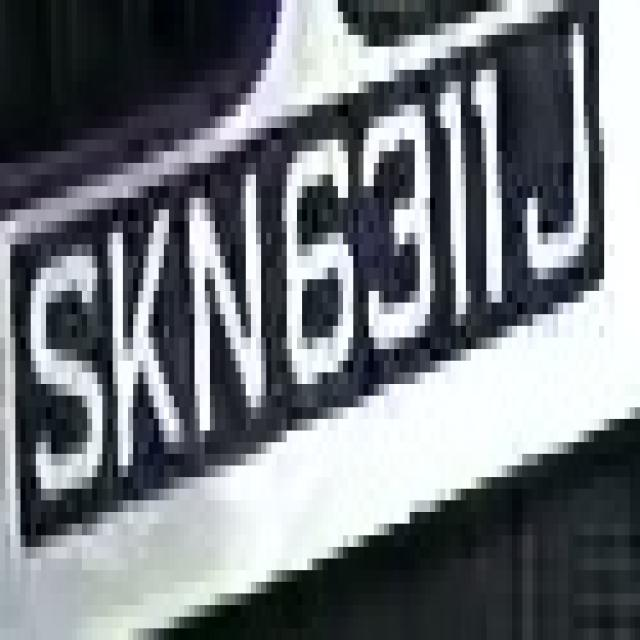1: (466, 47, 517, 360), (430, 70, 476, 349)
3: (358, 70, 441, 361)
6: (276, 116, 358, 442)
J: (512, 11, 609, 302)
K: (92, 186, 174, 512)
N: (174, 140, 271, 430)
S: (21, 210, 102, 536)
